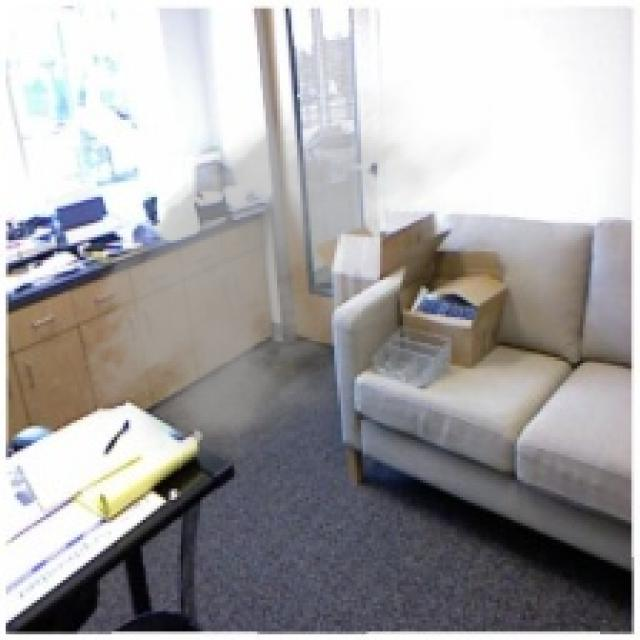smoke: (69, 77, 492, 480)
